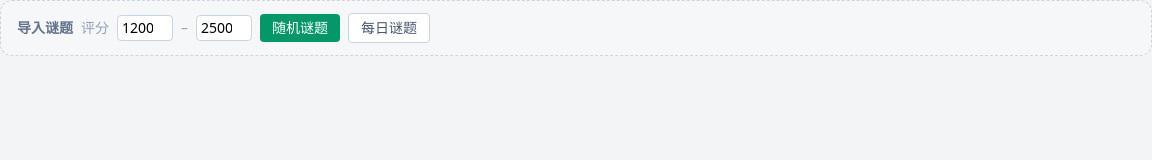
Test case: PuzzleImporter › disables the answer button when the backend has no solution
This screenshot has width=1152, height=160.
Click the button "随机谜题" at point(300, 28), box x1=260 y1=14 x2=340 y2=42
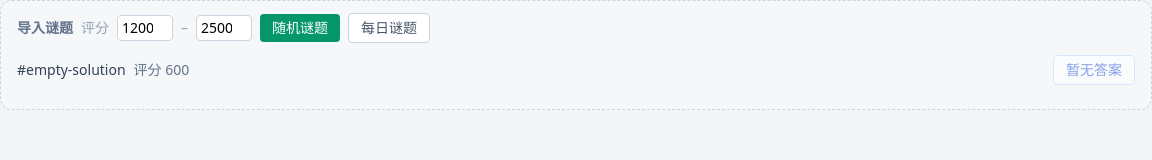
Check: the button "暂无答案" is disabled, box x1=1053 y1=55 x2=1135 y2=85
